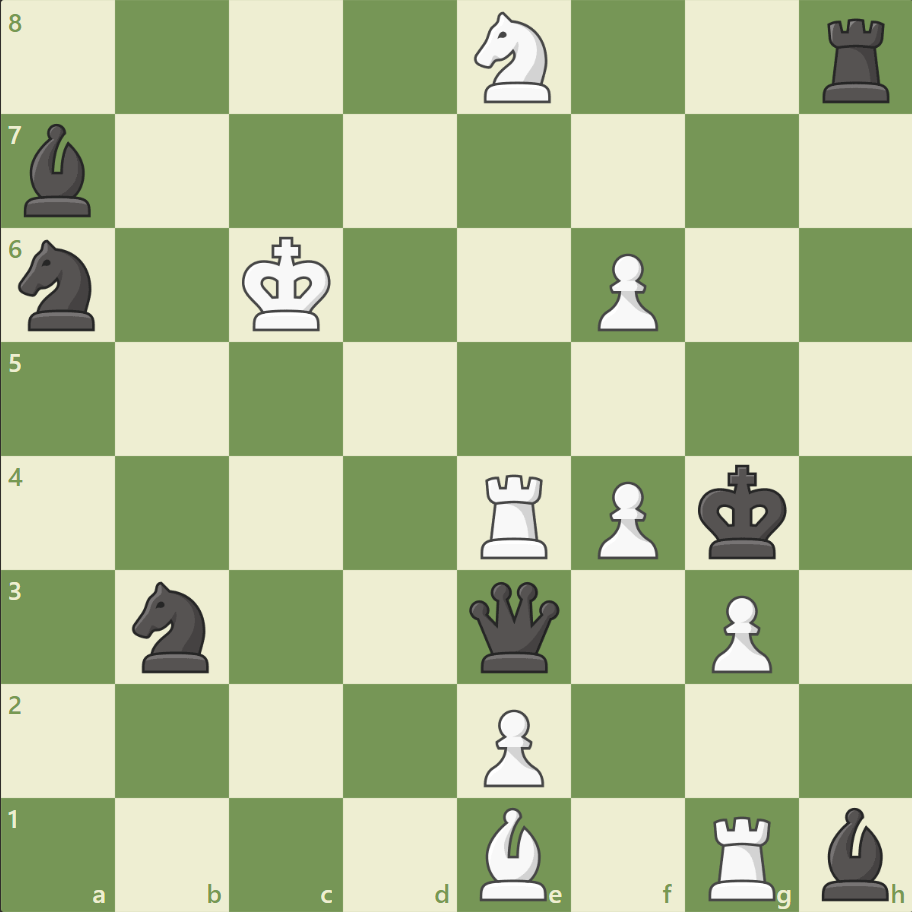B: (471, 801, 555, 904)
K: (238, 231, 338, 339)
N: (465, 7, 562, 110)
P: (701, 586, 776, 677), (474, 700, 549, 791), (588, 246, 662, 337), (588, 473, 662, 564)
R: (700, 806, 783, 904), (473, 466, 556, 563)
b: (812, 801, 896, 904), (17, 120, 101, 222)
k: (692, 458, 792, 566)
n: (124, 575, 222, 677), (11, 234, 108, 337)
q: (464, 576, 563, 676)
r: (814, 12, 897, 109)
